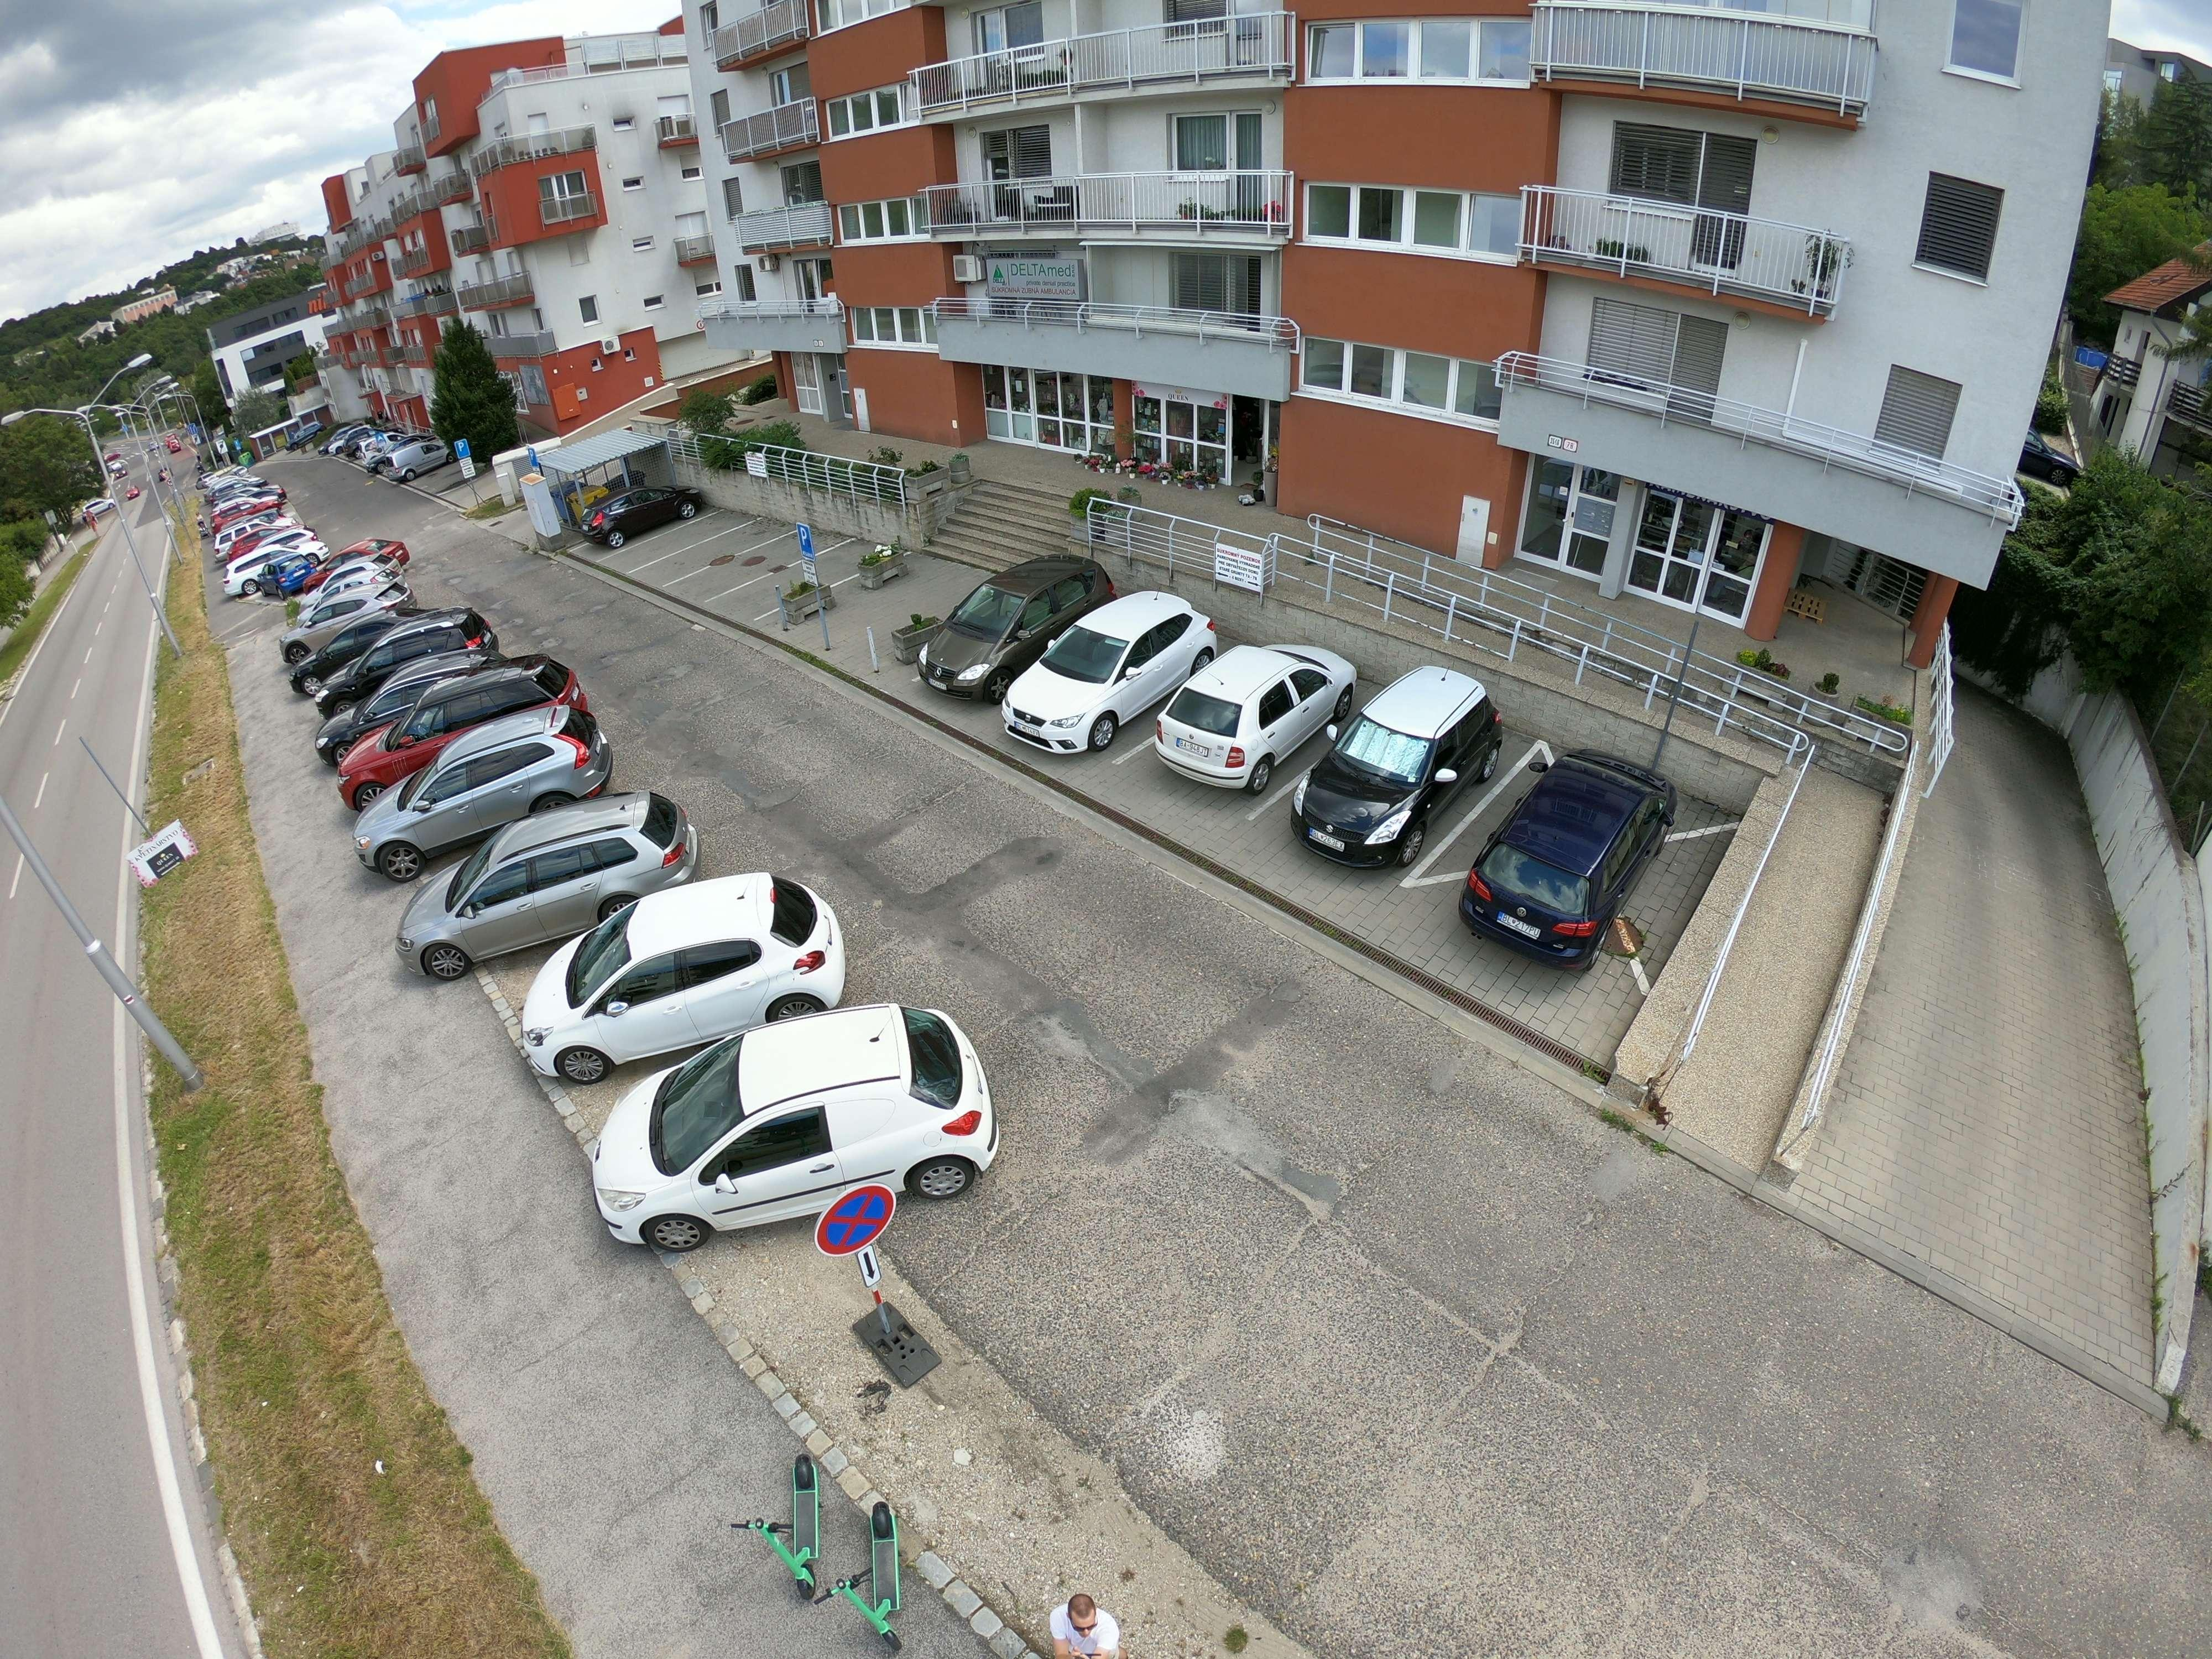empty: (601, 1011, 1001, 1237), (512, 878, 850, 1063), (1463, 749, 1672, 955), (1299, 673, 1503, 863), (420, 803, 688, 946), (361, 728, 624, 859), (1001, 596, 1209, 756), (1158, 643, 1355, 795), (343, 667, 589, 770), (916, 572, 1101, 690), (307, 615, 510, 708), (279, 558, 415, 631), (566, 476, 690, 545)
occupied: (754, 572, 815, 608), (719, 542, 775, 580), (688, 528, 730, 566)
